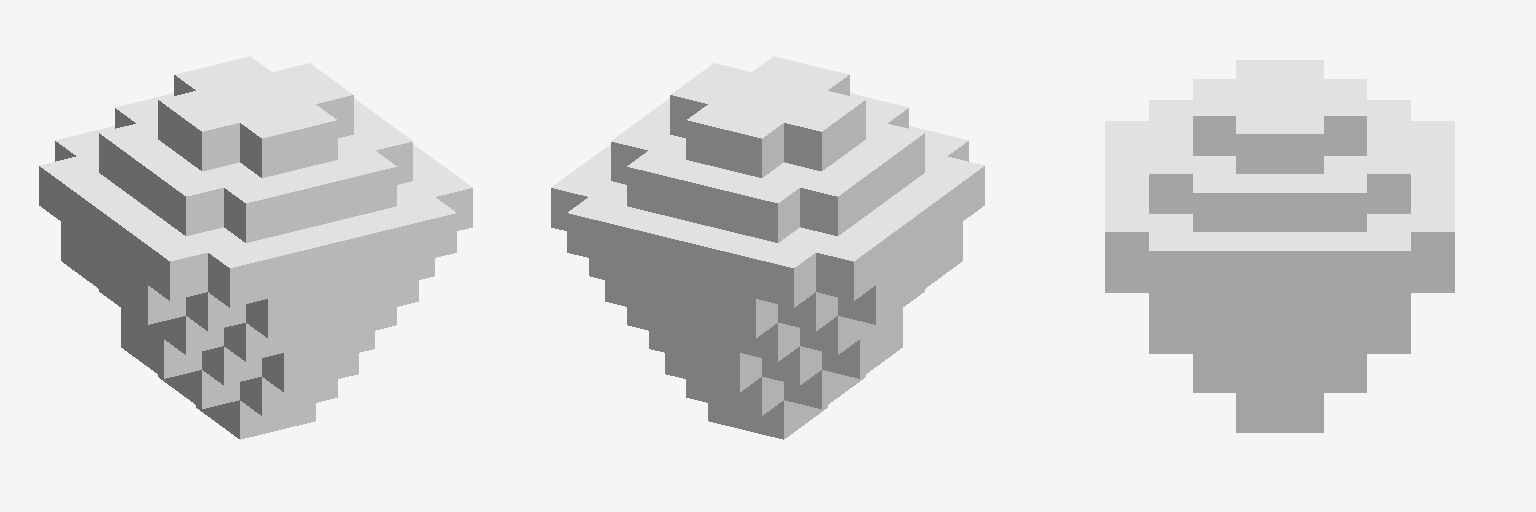
Rendered from honeycrystalingredient.obj.
The picture shows the model from 3 angles: view 1: azimuth 30°, elevation 25°; view 2: azimuth 150°, elevation 25°; view 3: azimuth 270°, elevation 25°; orthographic projection.
Visible parts, largest first — view 1: object 1; view 2: object 1; view 3: object 1.
Part boxes in pixels (x1,y1,x2,y2): object 1: (39, 56, 472, 439); object 1: (551, 56, 984, 439); object 1: (1105, 60, 1454, 432).
Bounding box in the file's own units: 0.8 × 0.8 × 0.8.